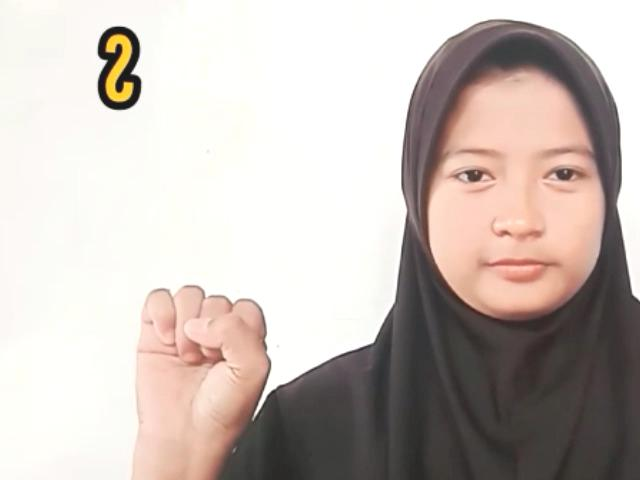S: (132, 282, 274, 424)
